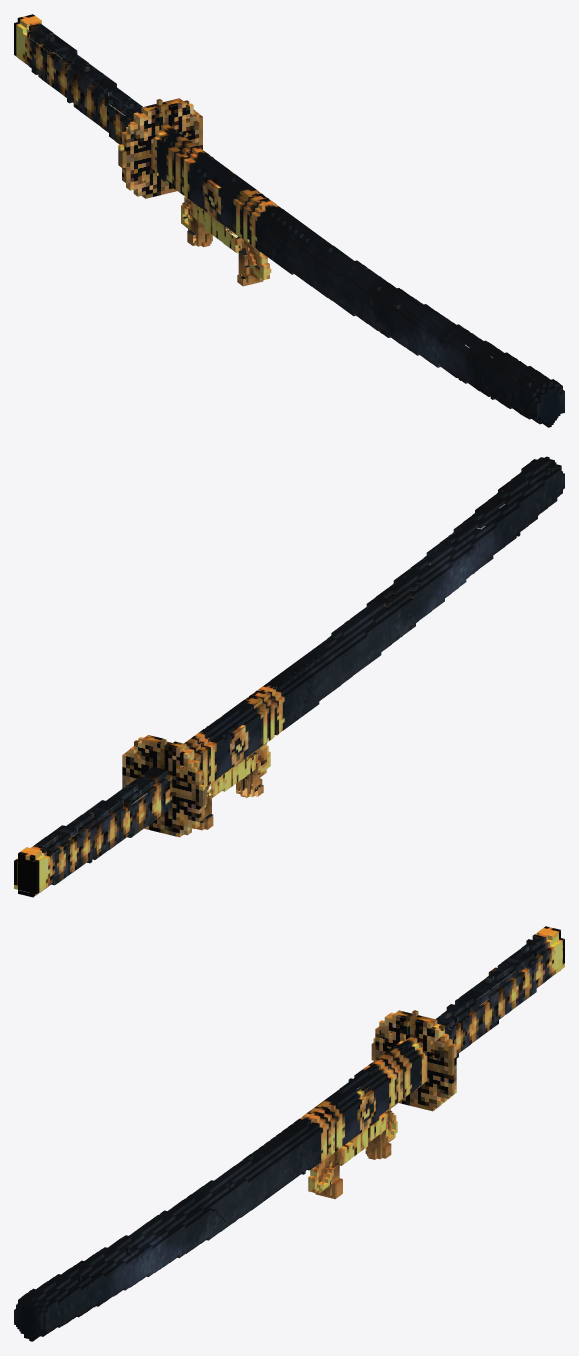
The model's file is voxel_shotogatana_in_sheath.obj.
3 renders of one model, top to bottom at view 1: azimuth 30°, elevation 25°; view 2: azimuth 150°, elevation 25°; view 3: azimuth 330°, elevation 25°, orthographic.
Parts seen in each view (by area): view 1: InSheath; view 2: InSheath; view 3: InSheath.
Part boxes in pixels (<box>): InSheath: <box>14,14,564,427</box>; InSheath: <box>14,456,564,897</box>; InSheath: <box>14,926,564,1341</box>.
Size of the model in its own units: 0.2904 by 0.4048 by 3.28.
